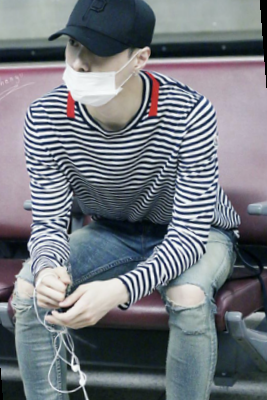mask_weared_incorrect: (45, 1, 172, 108)
